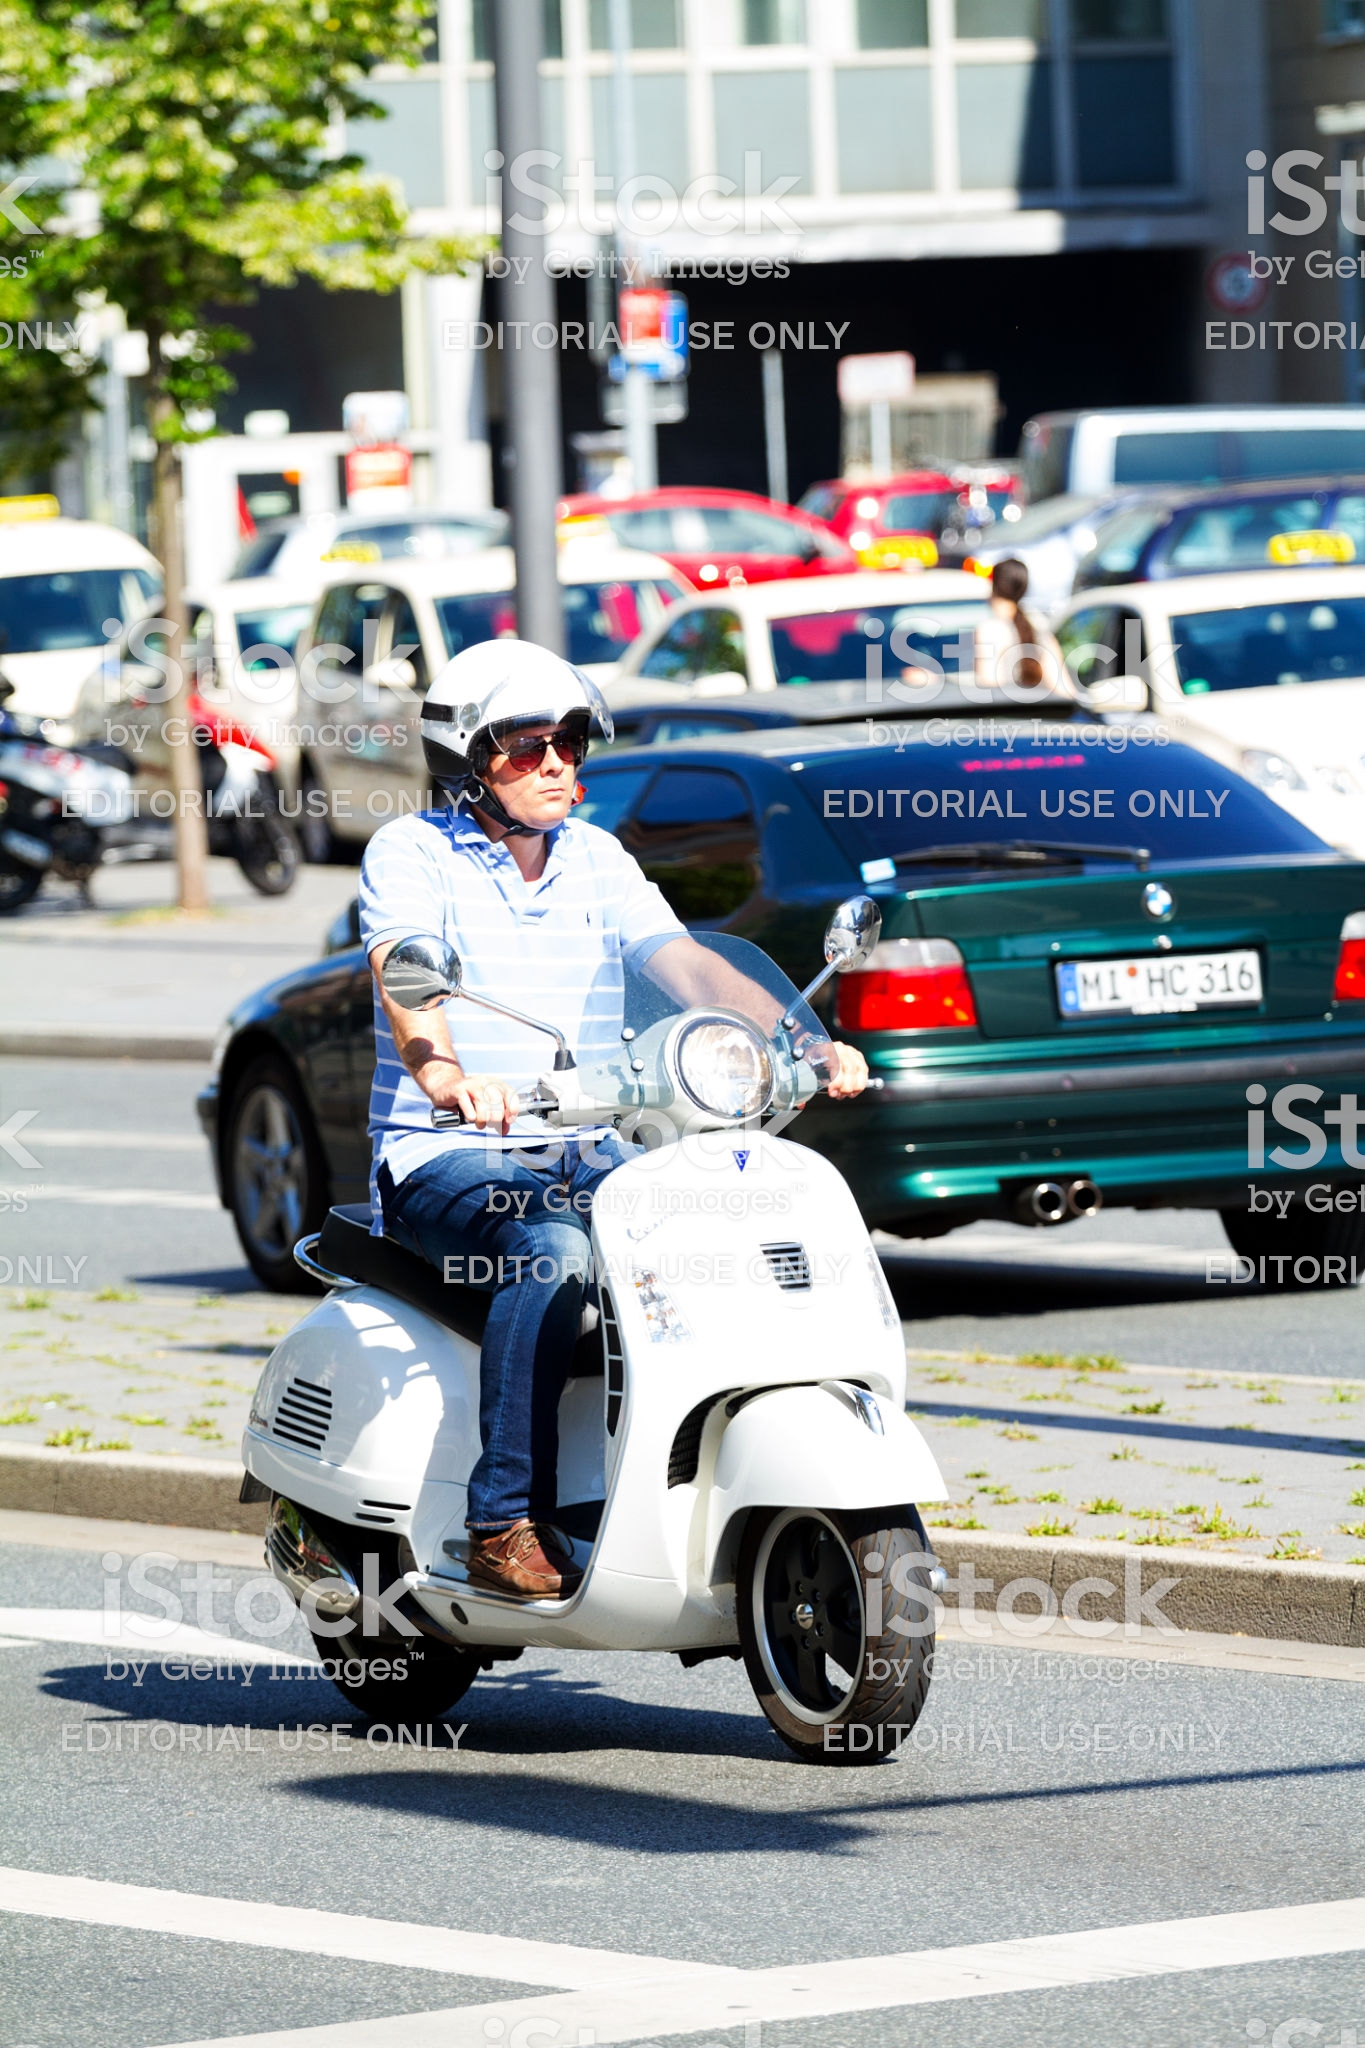helmet: (424, 643, 582, 758)
